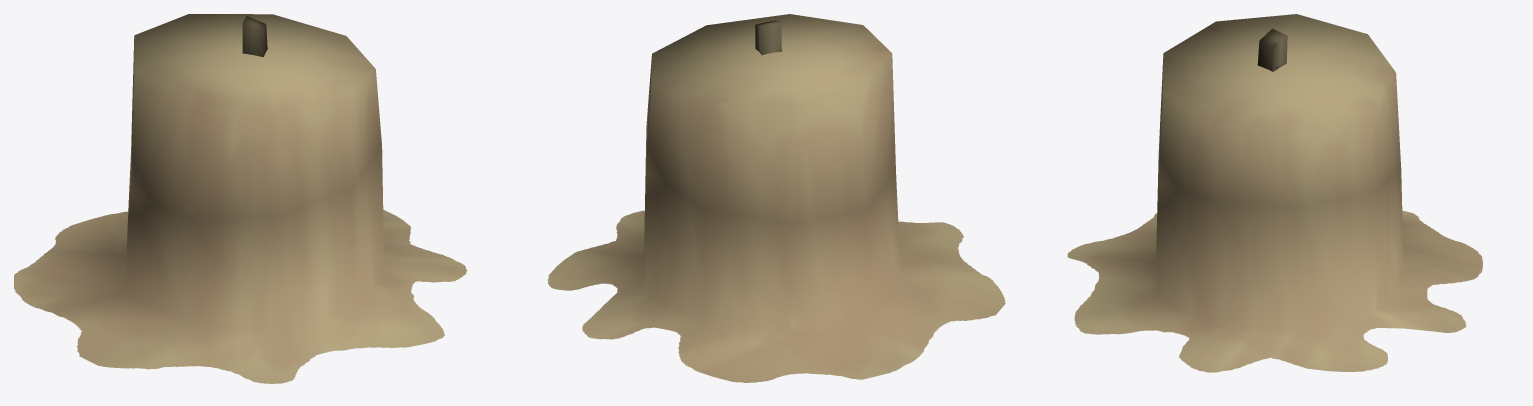
File: candle_01.fbx
The picture shows the model from 3 angles, left to right: view 1: azimuth 30°, elevation 25°; view 2: azimuth 150°, elevation 25°; view 3: azimuth 270°, elevation 25°; orthographic projection. The views are drawn at different scales.
Visible parts, largest first — view 1: candle_01; view 2: candle_01; view 3: candle_01.
Part boxes in pixels (x1,y1,x2,y2): candle_01: (14, 14, 467, 384); candle_01: (548, 14, 1005, 382); candle_01: (1067, 14, 1482, 372).
Bounding box in the file's own units: 34.08 × 20.25 × 33.56.
